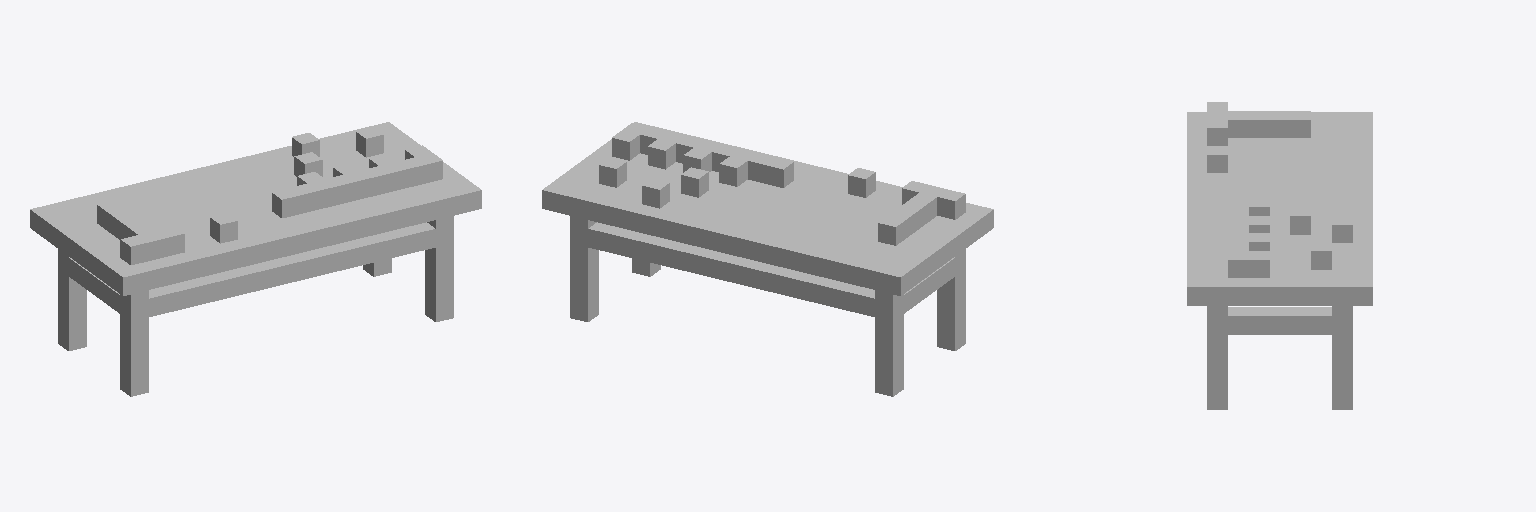
Rendered from workbench.obj.
3 renders of one model, left to right at view 1: azimuth 30°, elevation 25°; view 2: azimuth 150°, elevation 25°; view 3: azimuth 270°, elevation 25°, orthographic.
Parts seen in each view (by area): view 1: object 1; view 2: object 1; view 3: object 1.
Boxes of the visible parts, box(x1,y1,x2,y2) form: object 1: box(30, 122, 481, 396); object 1: box(542, 122, 993, 396); object 1: box(1187, 102, 1372, 409).
Size of the model in its own units: 2 by 0.8 by 0.9.